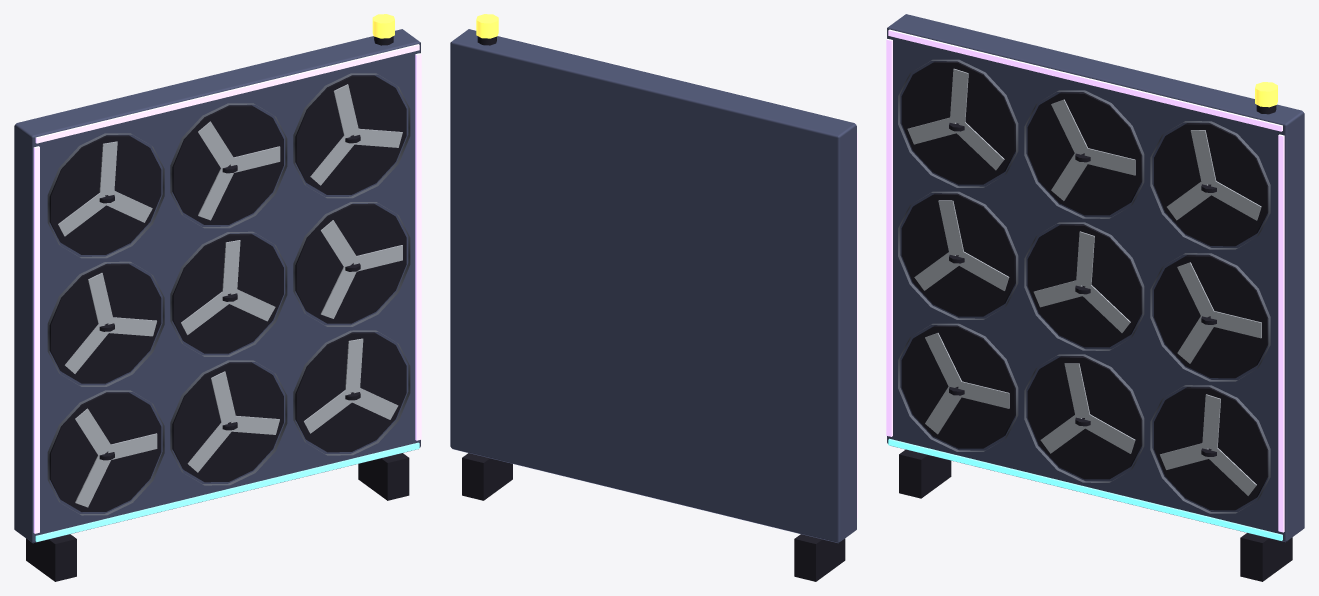
The model's file is welt_luefterwand.glb.
The picture shows the model from 3 angles, left to right: view 1: azimuth 30°, elevation 25°; view 2: azimuth 150°, elevation 25°; view 3: azimuth 330°, elevation 25°; orthographic projection. The views are drawn at different scales.
Visible parts, largest first — view 1: welt_luefterwand; view 2: welt_luefterwand; view 3: welt_luefterwand.
Part boxes in pixels (x1,y1,x2,y2): welt_luefterwand: [14, 14, 421, 581]; welt_luefterwand: [450, 14, 857, 581]; welt_luefterwand: [886, 14, 1304, 581].
Bounding box in the file's own units: 5.4 × 6.2 × 0.73.
